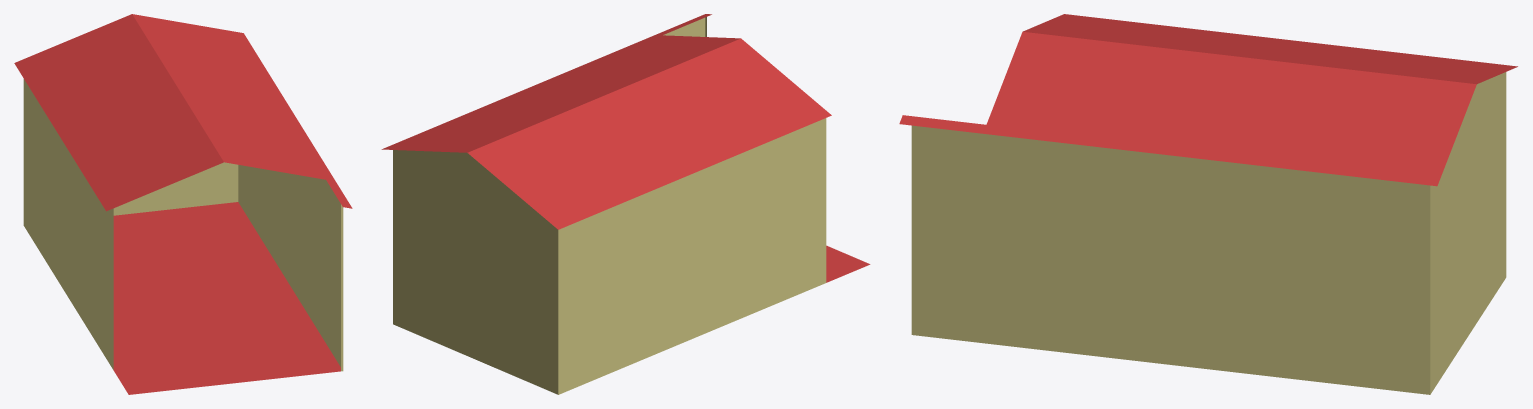
The picture shows the model from 3 angles, left to right: view 1: azimuth 30°, elevation 25°; view 2: azimuth 150°, elevation 25°; view 3: azimuth 270°, elevation 25°; orthographic projection. The views are drawn at different scales.
Size of the model in its own units: 10.63 by 15.24 by 6.92.
